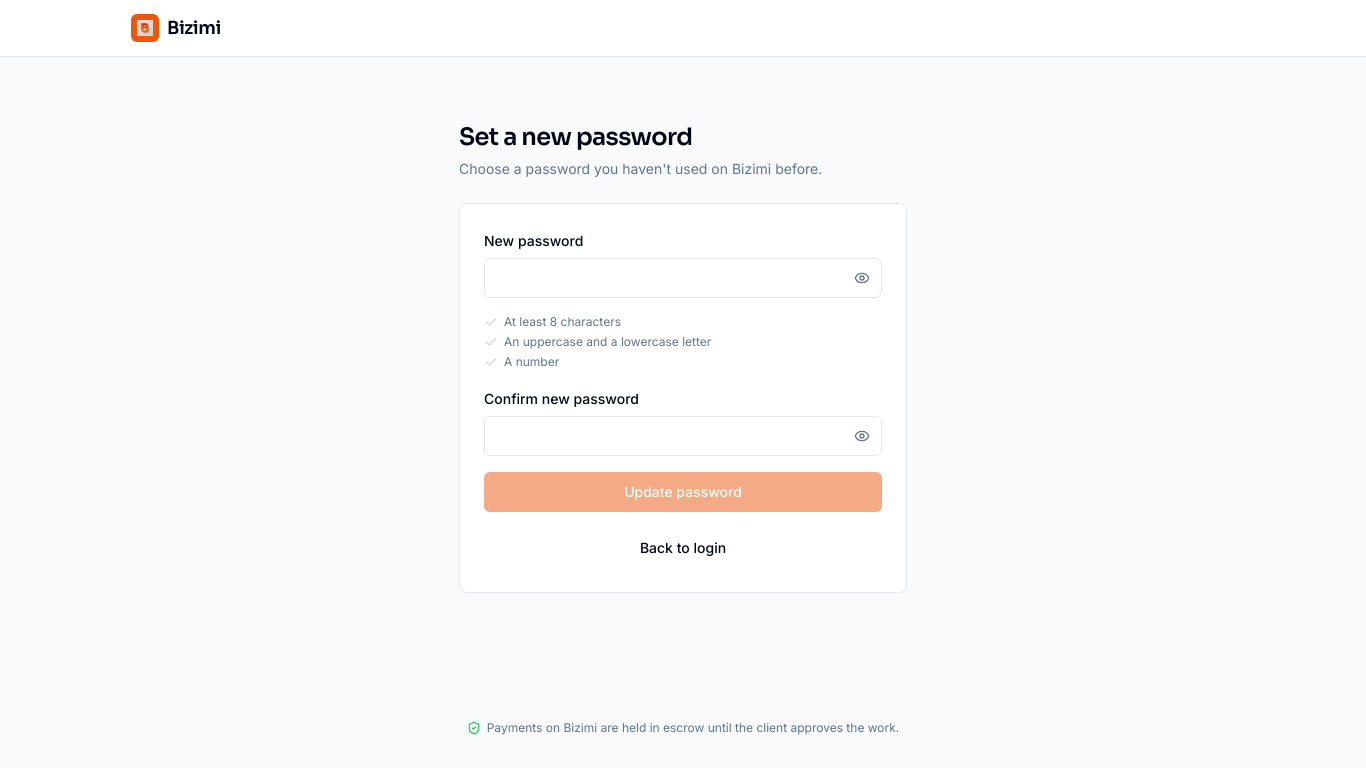
ResetPassword › rejects a password shorter than 8 characters before calling updateUser
The width and height of the screenshot is (1366, 768).
Type "Ab1" into the password field labelled "New password" at (683, 278), box top-left (484, 258), bottom-right (882, 298)
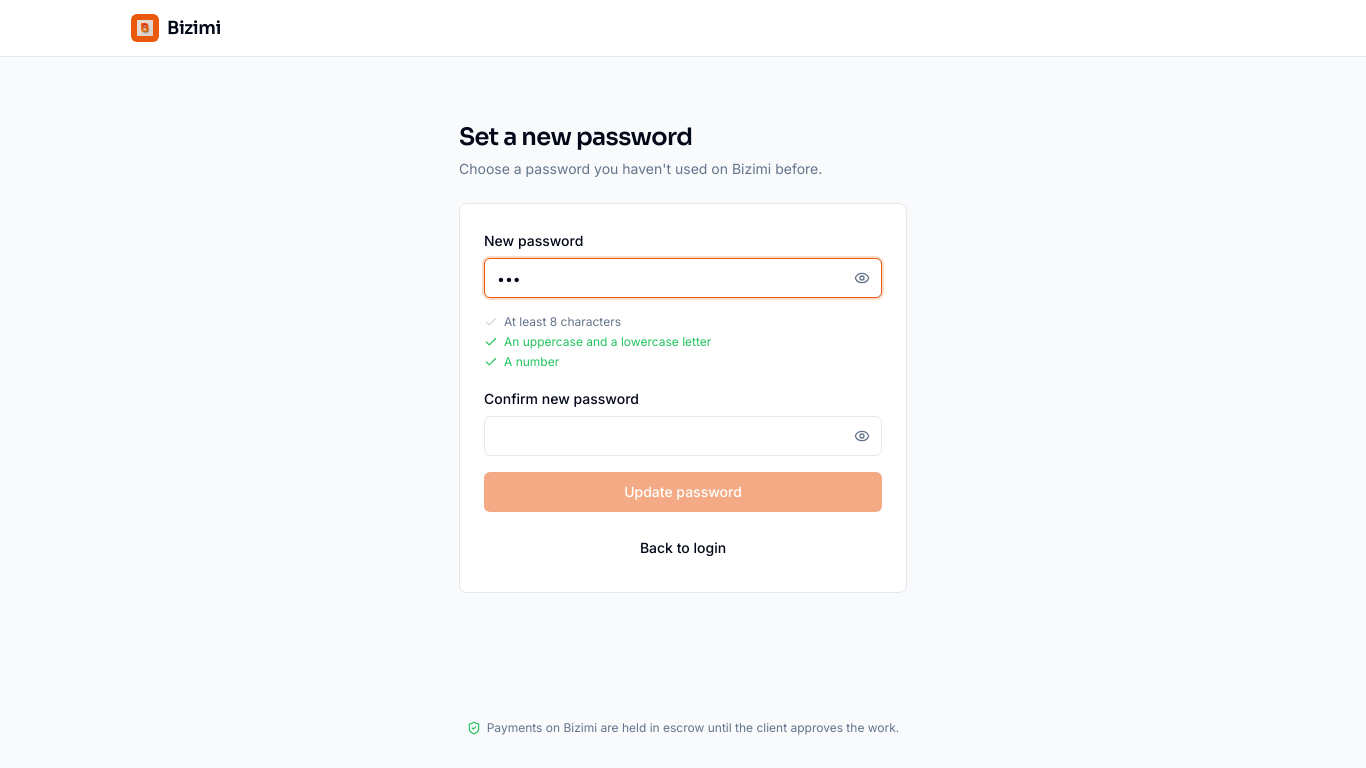
Type "Ab1" into the password field labelled "Confirm new password" at (683, 436), box top-left (484, 416), bottom-right (882, 456)
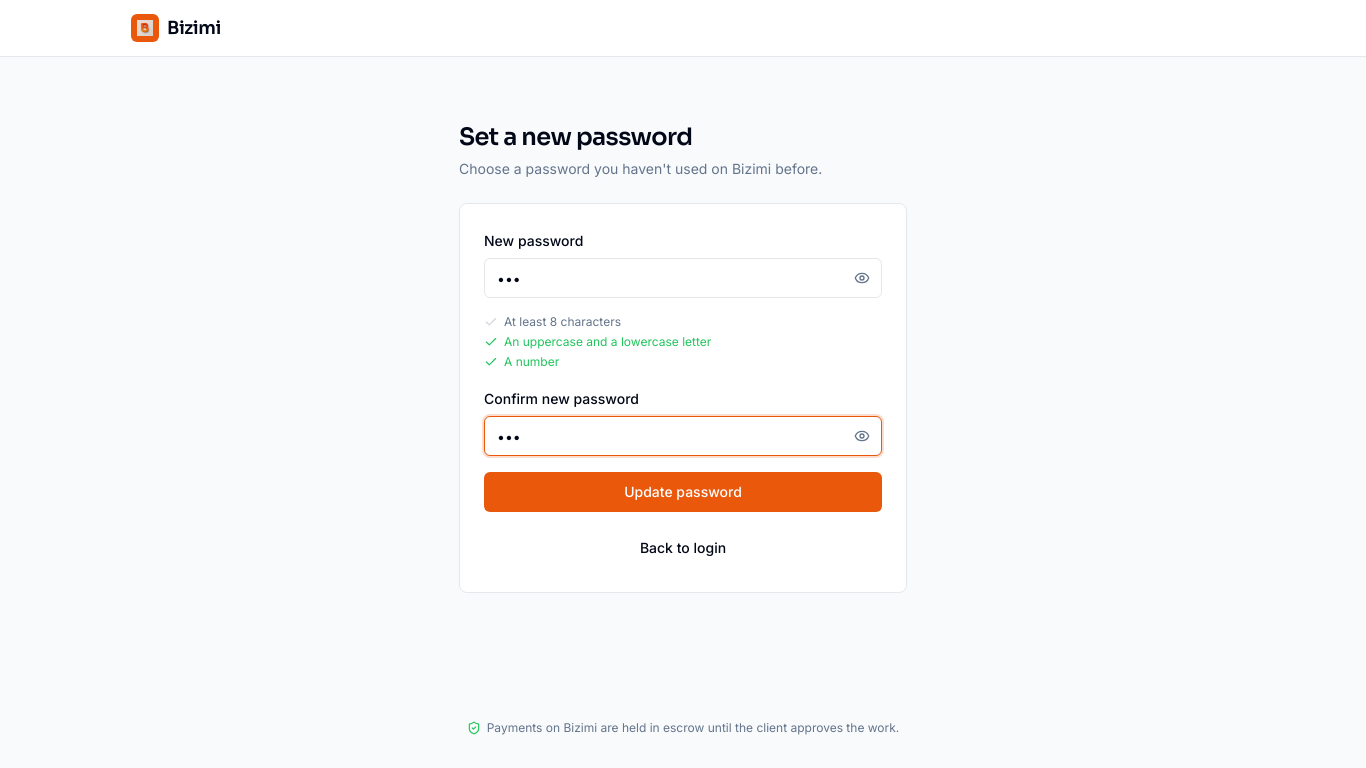
Click the button "Update password" at (683, 492), box top-left (484, 472), bottom-right (882, 512)
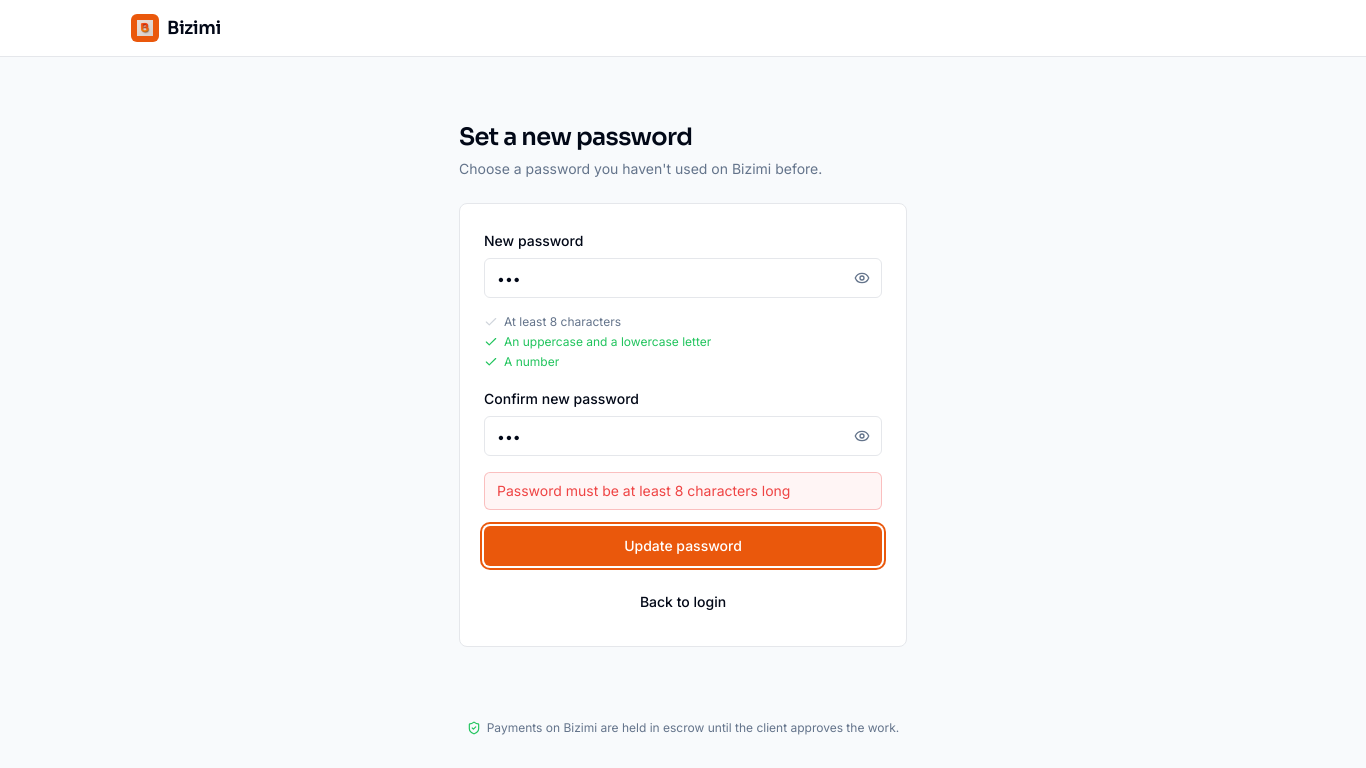
Expected: the text "Password must be at least 8 characters long" is shown, top-left (484, 472), bottom-right (882, 510)
